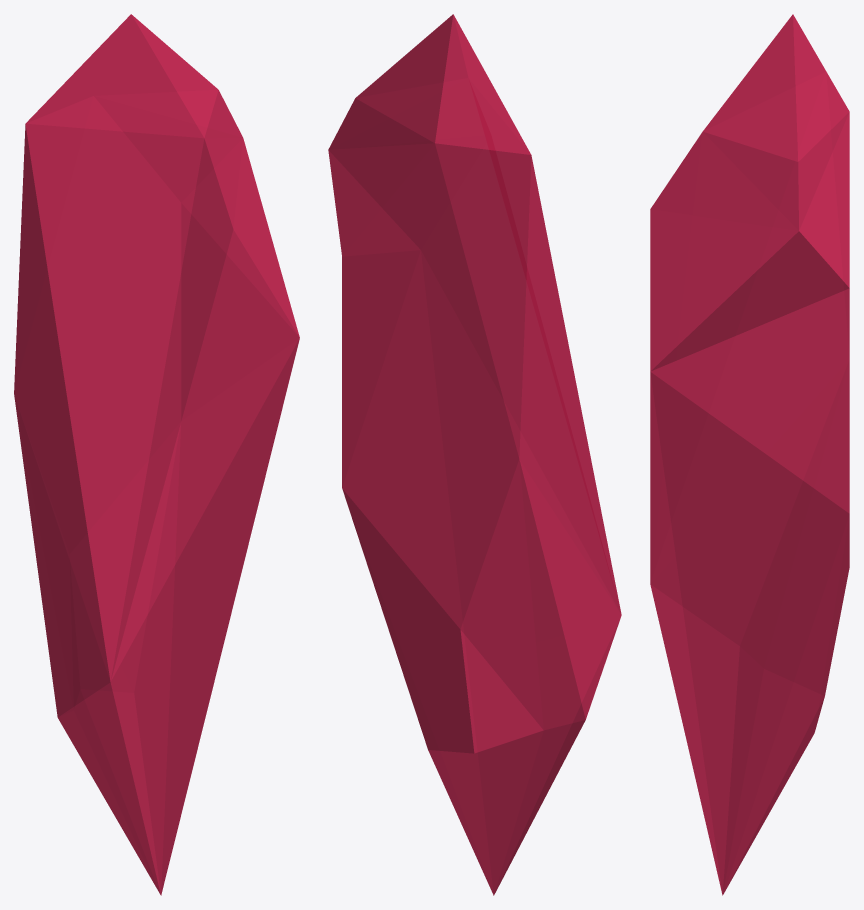
File: shard.glb
3 renders of one model, left to right at view 1: azimuth 30°, elevation 25°; view 2: azimuth 150°, elevation 25°; view 3: azimuth 270°, elevation 25°, orthographic. The views are drawn at different scales.
Visible parts, largest first — view 1: soul_shard; view 2: soul_shard; view 3: soul_shard.
Boxes of the visible parts, bbox=[...] form: soul_shard: bbox=[14, 14, 299, 895]; soul_shard: bbox=[328, 14, 621, 895]; soul_shard: bbox=[650, 14, 849, 895].
Size of the model in its own units: 48.55 by 185 by 37.89.
